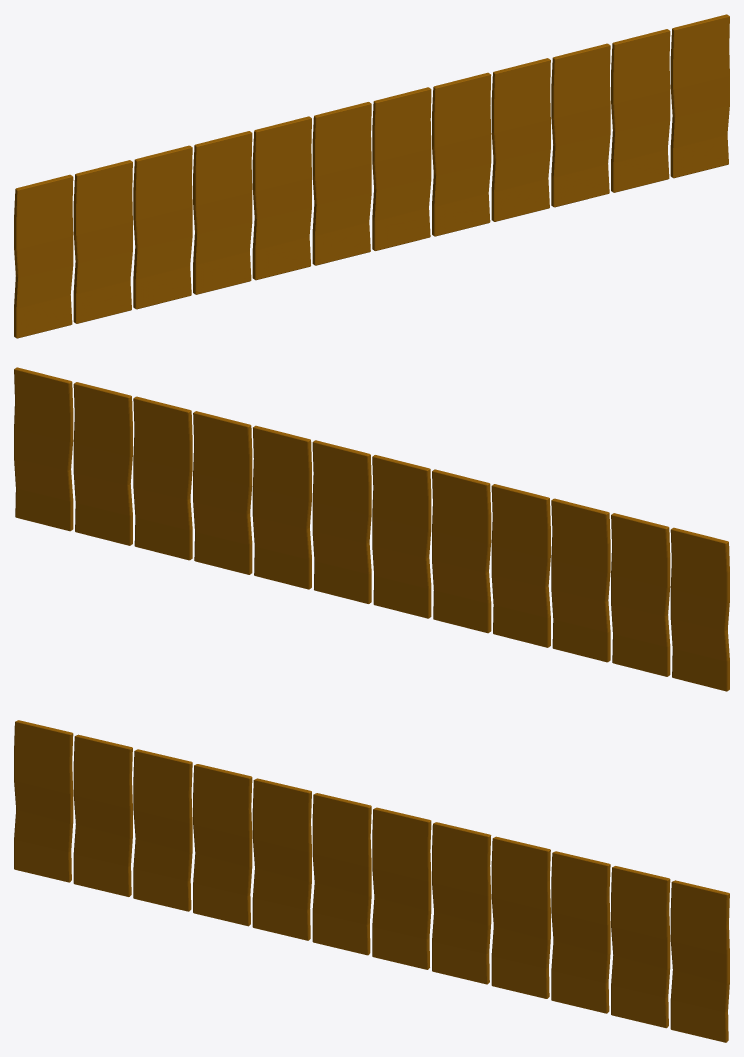
The model's file is Bridge.fbx.
3 views of the same model, one above another, from view 1: azimuth 30°, elevation 25°; view 2: azimuth 150°, elevation 25°; view 3: azimuth 330°, elevation 25° (orthographic).
Parts seen in each view (by area): view 1: Bridge; view 2: Bridge; view 3: Bridge.
Boxes of the visible parts, x1,y1,x2,y2 form: Bridge: [14, 14, 729, 338]; Bridge: [14, 367, 729, 691]; Bridge: [14, 720, 729, 1042].
Bounding box in the file's own units: 15.06 × 3 × 0.1177.
